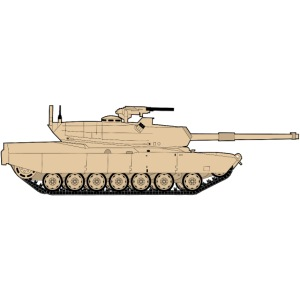Battle Tank: (1, 91, 300, 196)
